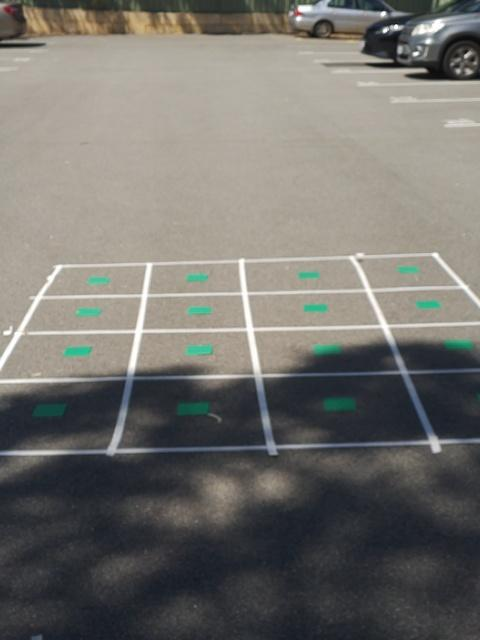weed: (28, 398, 70, 424), (319, 391, 361, 417), (173, 394, 213, 421), (58, 340, 96, 364), (310, 338, 344, 358), (412, 296, 446, 314), (181, 342, 214, 360), (440, 337, 477, 353), (72, 302, 102, 321), (82, 271, 113, 289), (391, 260, 422, 278), (184, 267, 211, 287), (184, 302, 217, 318), (292, 267, 323, 283), (300, 301, 330, 314)
